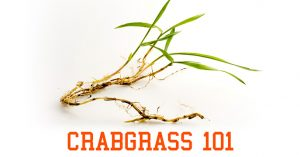crabgrass: (121, 4, 245, 96)
